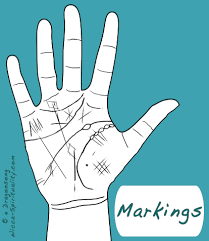palm: (35, 95, 111, 190)
